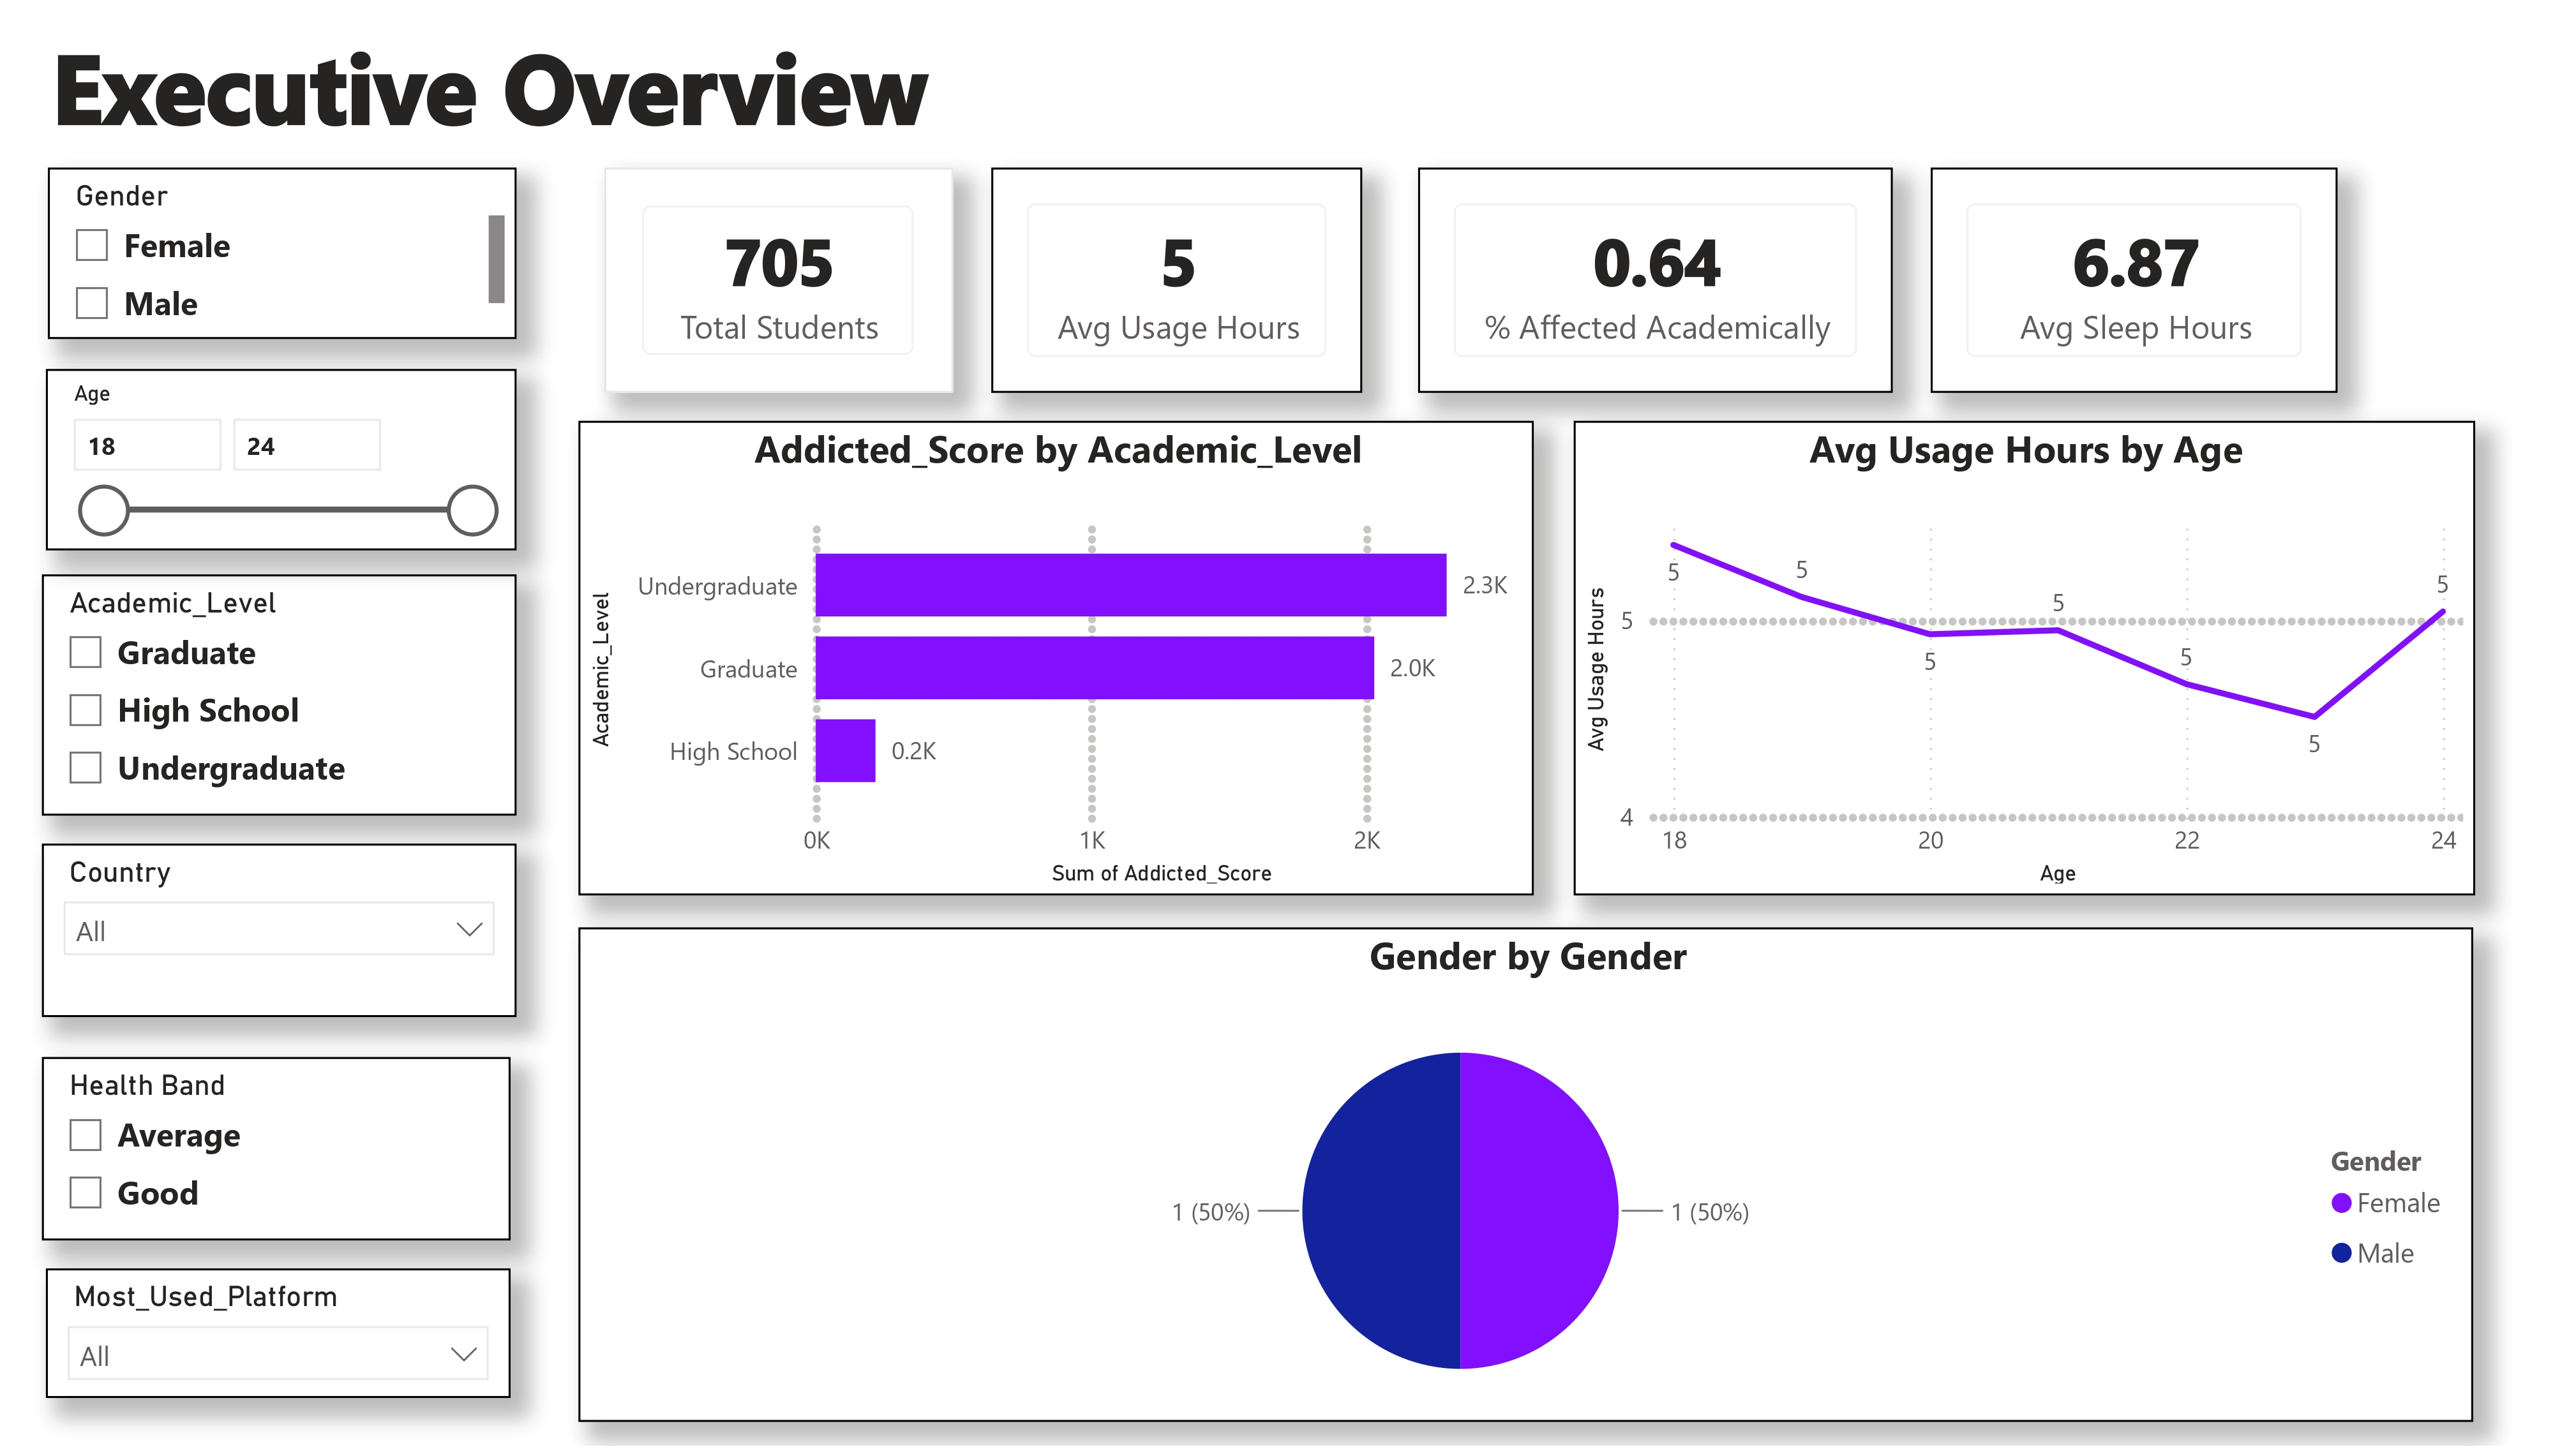

What the dashboard file says about the page in this screenshot:
{"tool":"powerbi","page":{"name":"Executive Overview","canvas":[1280,720],"ordinal":0},"visuals":[{"type":"textbox","box":[21,0,476.1,79.3],"z":0},{"type":"cardVisual","fields":{"Data":["Student Details.Total Students"]},"box":[302.8,79.3,174.9,113.3],"z":1000},{"type":"cardVisual","fields":{"Data":["Student Details.Avg Usage Hours"]},"box":[497.1,79.3,186.2,113.3],"z":2000},{"type":"cardVisual","fields":{"Data":["Platform Details.% Affected Academically"]},"box":[710.8,79.3,238,113.3],"z":3000},{"type":"cardVisual","fields":{"Data":["Student Details.Avg Sleep Hours"]},"box":[968.3,79.3,204,113.3],"z":4000},{"type":"barChart","title":"Addicted_Score by Academic_Level","fields":{"Category":["Student Details.Academic_Level"],"Y":["Sum(Student Details.Addicted_Score)"]},"box":[289.8,205.6,479.3,238],"z":5000},{"type":"lineChart","fields":{"Category":["Student Details.Age"],"Y":["Student Details.Avg Usage Hours"]},"box":[788.6,205.6,451.8,238],"z":6000},{"type":"pieChart","title":" Gender by Gender","fields":{"Category":["Student Details.Gender"],"Y":["Count(Student Details.Gender)"]},"box":[289.8,459.9,950.5,247.7],"z":7000},{"type":"slicer","fields":{"Values":["Student Details.Gender"]},"box":[24.3,79.3,234.8,85.8],"z":8000},{"type":"slicer","fields":{"Values":["Student Details.Academic_Level"]},"box":[21,283.4,238,121.4],"z":9000},{"type":"slicer","fields":{"Values":["Student Details.Health Band"]},"box":[21,524.6,234.8,92.3],"z":10000},{"type":"slicer","fields":{"Values":["Student Details.Age"]},"box":[22.7,179.7,236.4,90.7],"z":11000},{"type":"slicer","fields":{"Values":["Platform Details.Most_Used_Platform"]},"box":[22.7,631.5,233.2,64.8],"z":12000},{"type":"slicer","fields":{"Values":["Student Details.Country"]},"box":[21,417.8,238,87.4],"z":13000}]}

Visuals, with their boxes in screenshot pixels (x1, y1, x2, y2), scaled from the page's 1280x720 canvas onto the 2553x1456 screenshot:
textbox: select_region(42, 0, 991, 160)
cardVisual - Student Details.Total Students: select_region(604, 160, 953, 389)
cardVisual - Student Details.Avg Usage Hours: select_region(991, 160, 1363, 389)
cardVisual - Platform Details.% Affected Academically: select_region(1418, 160, 1892, 389)
cardVisual - Student Details.Avg Sleep Hours: select_region(1931, 160, 2338, 389)
"Addicted_Score by Academic_Level" barChart: select_region(578, 416, 1534, 897)
lineChart - Student Details.Age x Student Details.Avg Usage Hours: select_region(1573, 416, 2474, 897)
" Gender by Gender" pieChart: select_region(578, 930, 2474, 1431)
slicer - Student Details.Gender: select_region(49, 160, 517, 334)
slicer - Student Details.Academic_Level: select_region(42, 573, 516, 819)
slicer - Student Details.Health Band: select_region(42, 1061, 510, 1247)
slicer - Student Details.Age: select_region(45, 364, 517, 547)
slicer - Platform Details.Most_Used_Platform: select_region(45, 1277, 511, 1408)
slicer - Student Details.Country: select_region(42, 845, 516, 1021)
